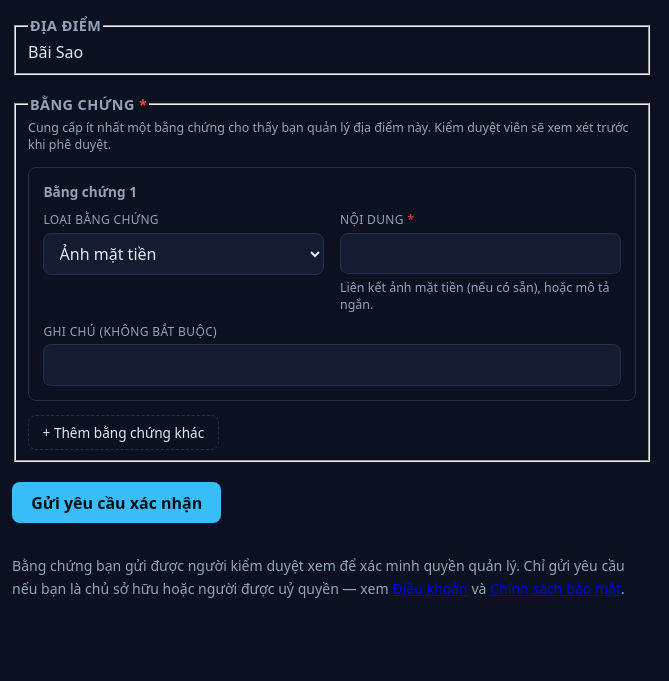
ClaimForm — gửi form › backend 409 (đã có claim pending) → hiển thị nguyên văn thông điệp backend
Type "x" into the field labelled "Nội dung *".
click(480, 253); type("x")  # box [340,233,621,274]
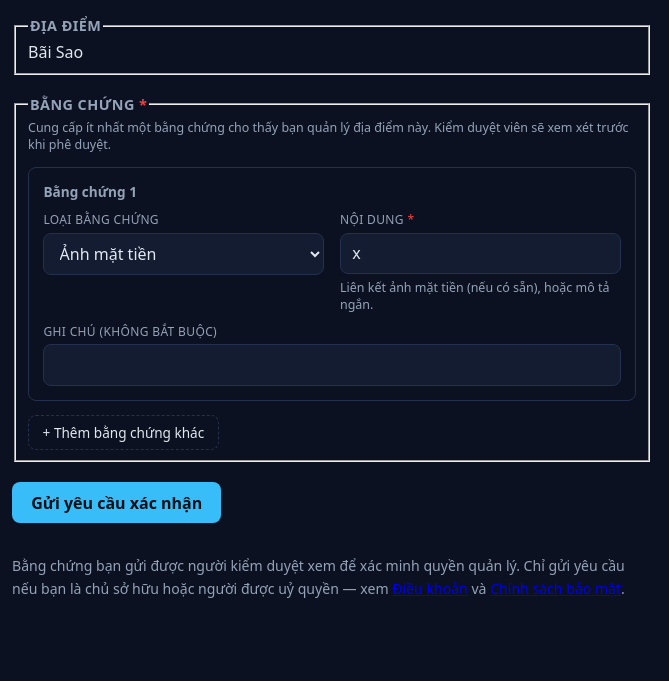
Click the button "Gửi yêu cầu xác nhận".
click(117, 503)  # box [12,482,222,524]
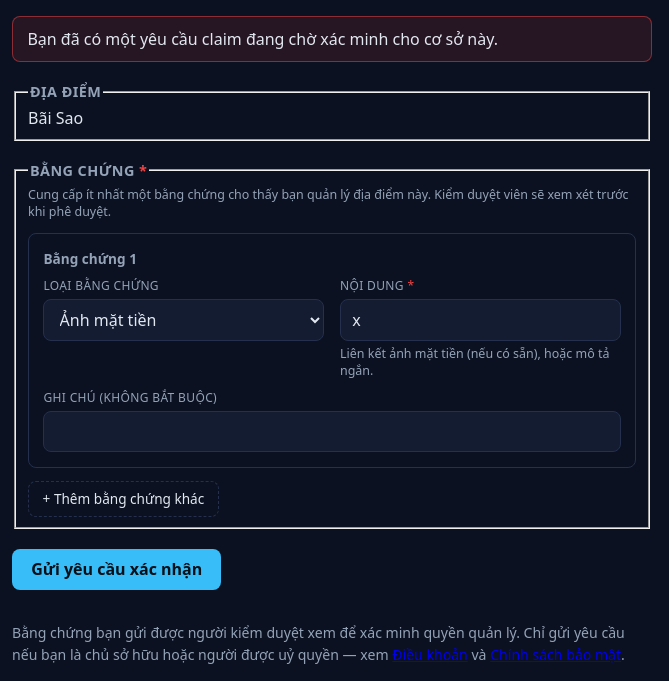
Now the message shows "đang chờ xác minh", box [27,28,498,50]
